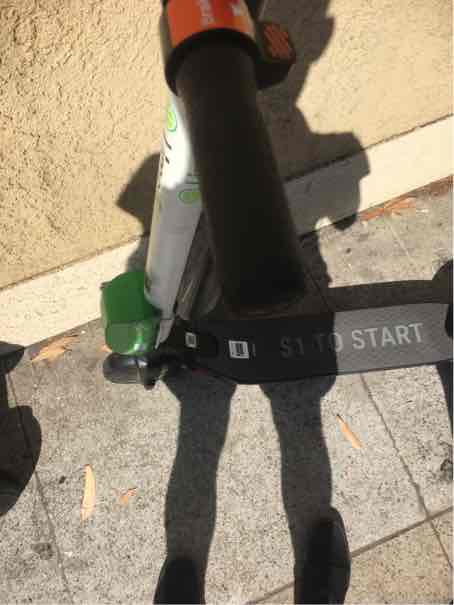scooter: (65, 9, 454, 414)
